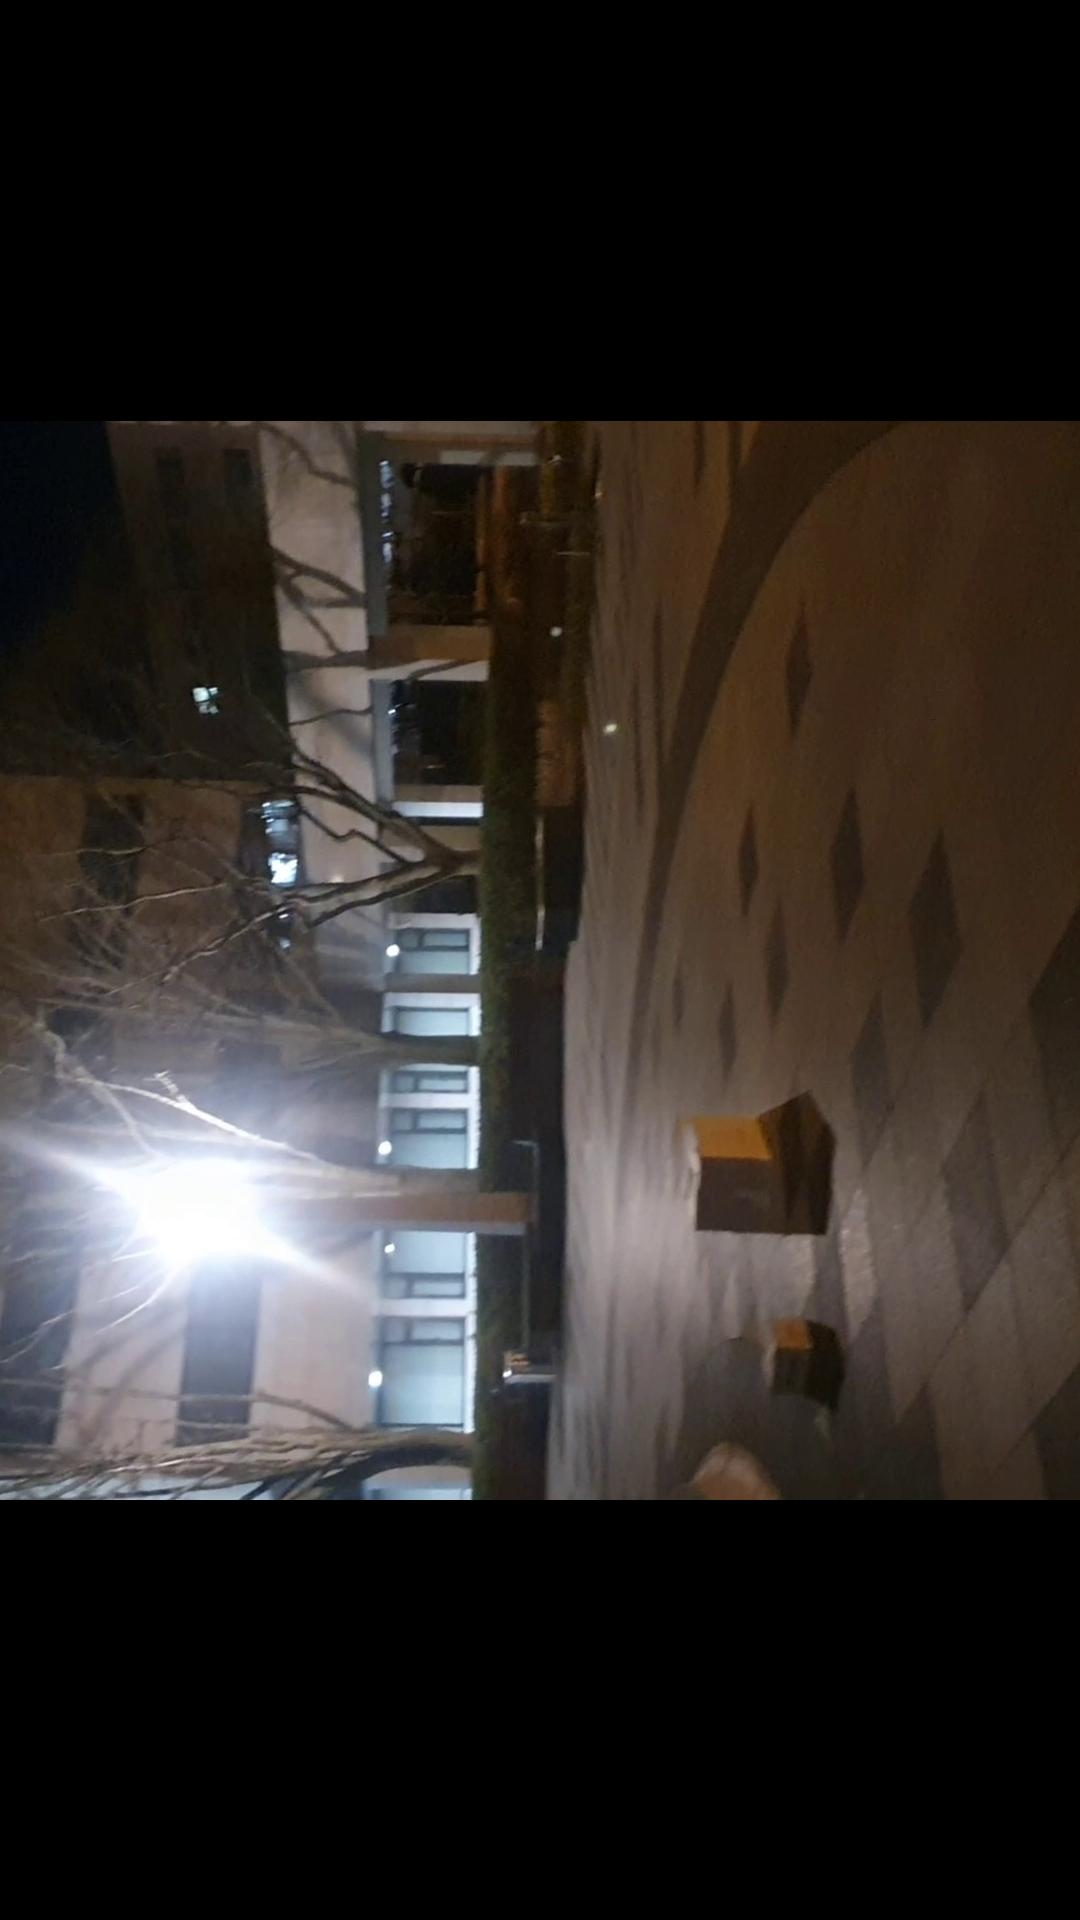Box: (665, 1108, 800, 1242), (748, 1317, 828, 1399)
